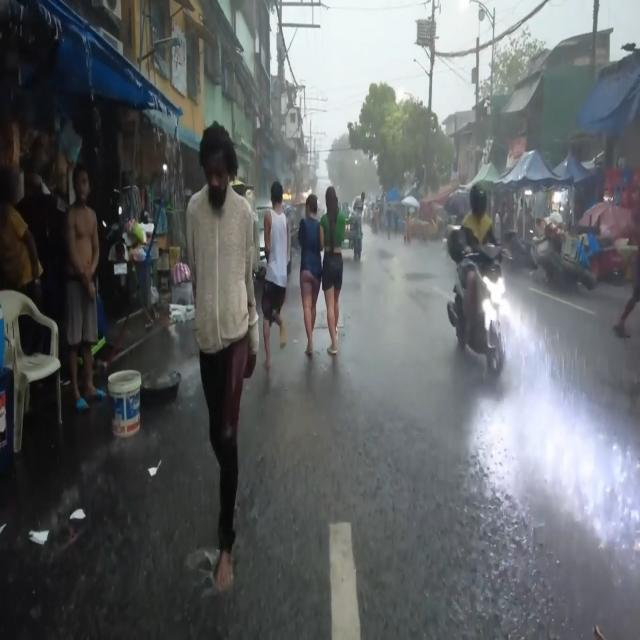full: (469, 182, 488, 220)
